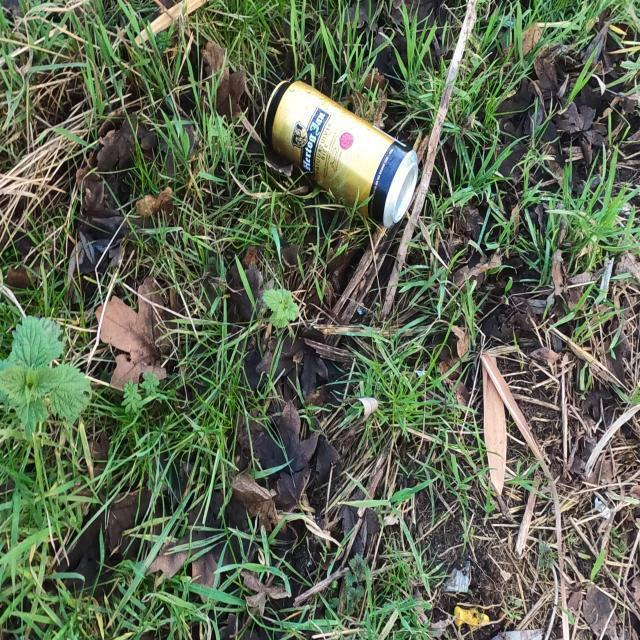Can-Metal: (262, 74, 420, 230)
